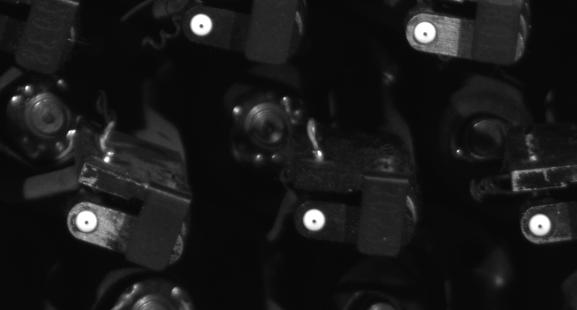fiber: (297, 202, 331, 235), (186, 10, 221, 40), (411, 19, 445, 47), (525, 209, 555, 240), (73, 205, 99, 238)
